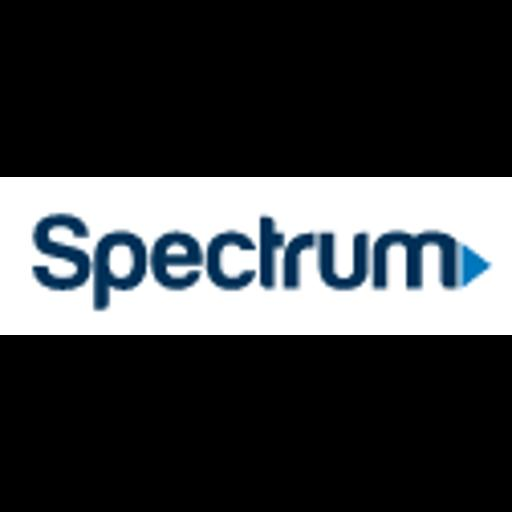Spectrum: (0, 177, 512, 335)
